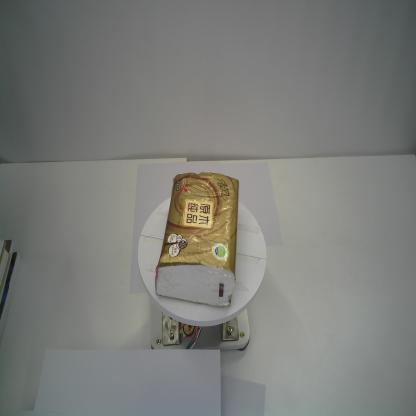Tissue: (155, 172, 239, 307)
